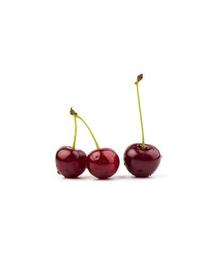cherry: (123, 143, 161, 177), (56, 146, 87, 179), (86, 149, 120, 179)
